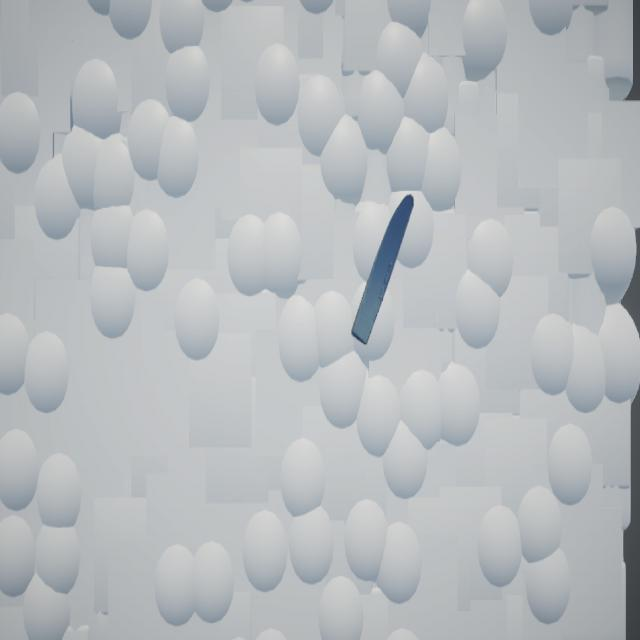top_knife: (352, 196, 415, 347)
